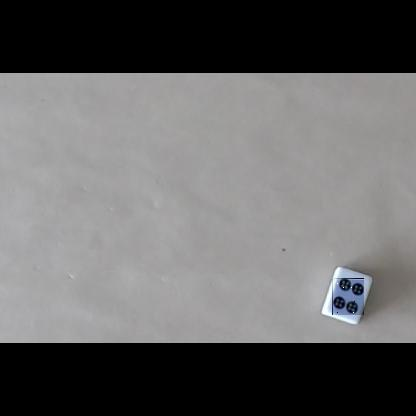4p: (332, 278, 364, 315)
